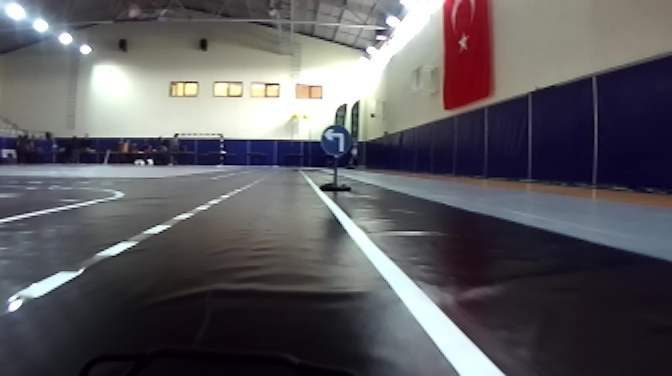sola_donus: (322, 122, 353, 156)
